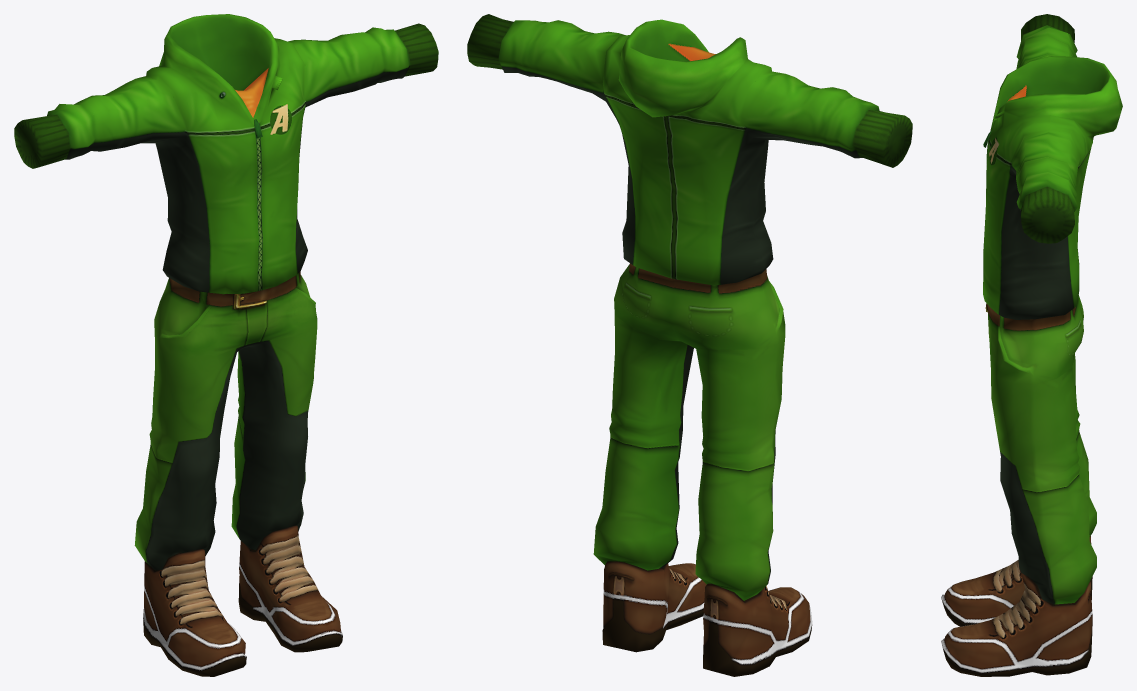
File: male_jumpsuits.glb
3 renders of one model, left to right at view 1: azimuth 30°, elevation 25°; view 2: azimuth 150°, elevation 25°; view 3: azimuth 270°, elevation 25°, orthographic. The views are drawn at different scales.
Parts seen in each view (by area): view 1: node_id229; view 2: node_id229; view 3: node_id229.
Part boxes in pixels (box(x1,y1,x2,y2)): node_id229: box(14, 14, 438, 676); node_id229: box(467, 14, 912, 676); node_id229: box(941, 14, 1122, 676).
Size of the model in its own units: 0.3628 by 0.512 by 0.1495.
1 material, 1 textured.
